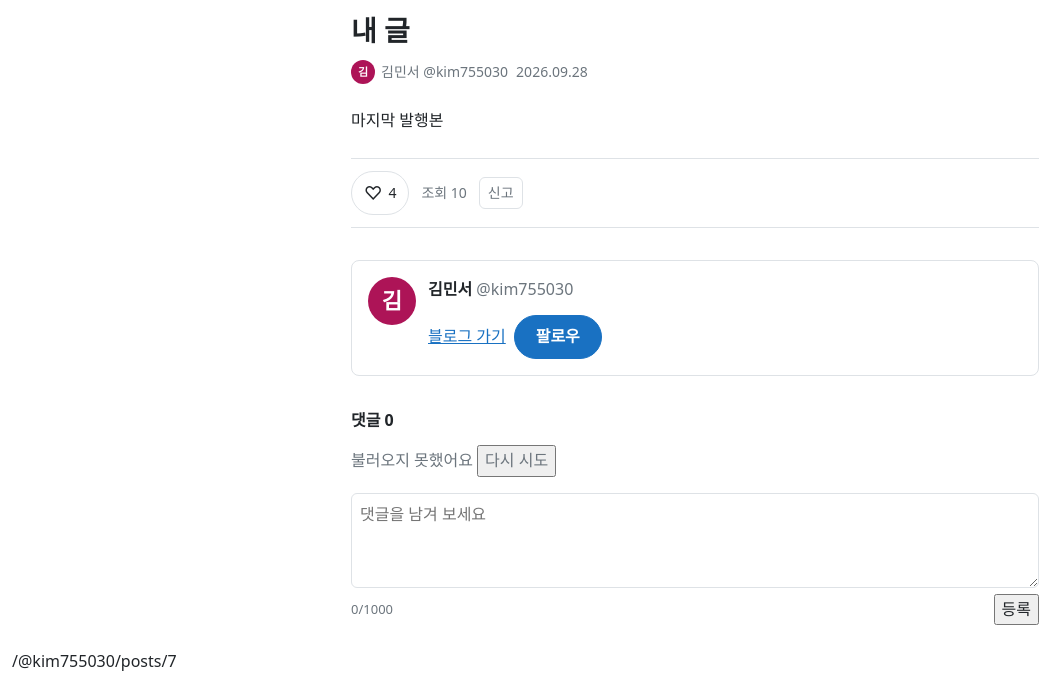
Test case: PostDetailPage — 작성자 › 작성자 카드 [팔로우] (010 T023) › 누르면 PUT /api/members/{작성자}/follow
Step 1. Click the button "팔로우" → (558, 337), box [514, 315, 602, 359]
Wait 300 ms
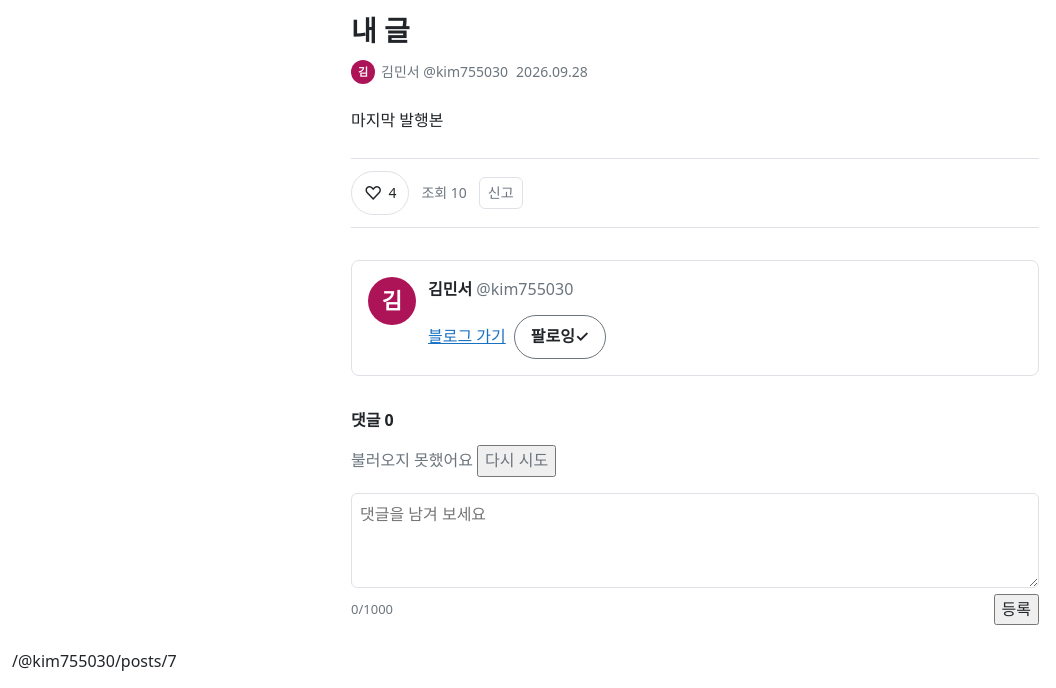
Expected: the button "팔로잉 ✓" is shown, [514, 315, 606, 359]
